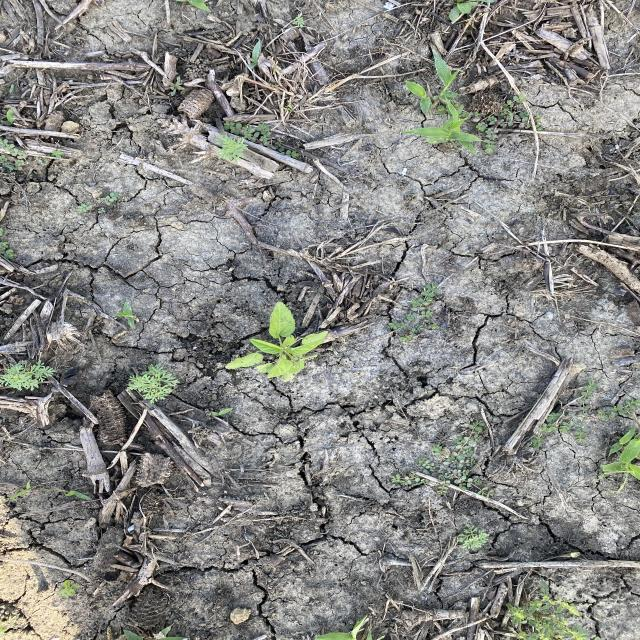PricklySida: (223, 299, 331, 384)
Ragweed: (123, 362, 182, 405), (1, 358, 58, 393), (454, 521, 492, 553), (215, 132, 249, 166)
SpottedSpurge: (390, 418, 499, 502), (520, 376, 636, 452), (436, 93, 545, 156), (384, 282, 446, 343), (221, 122, 301, 160), (2, 136, 52, 174), (73, 190, 121, 217)
